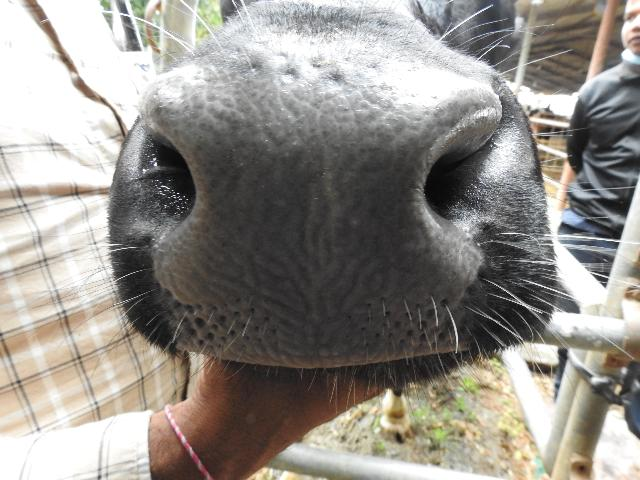Muzzle: (144, 72, 466, 348)
